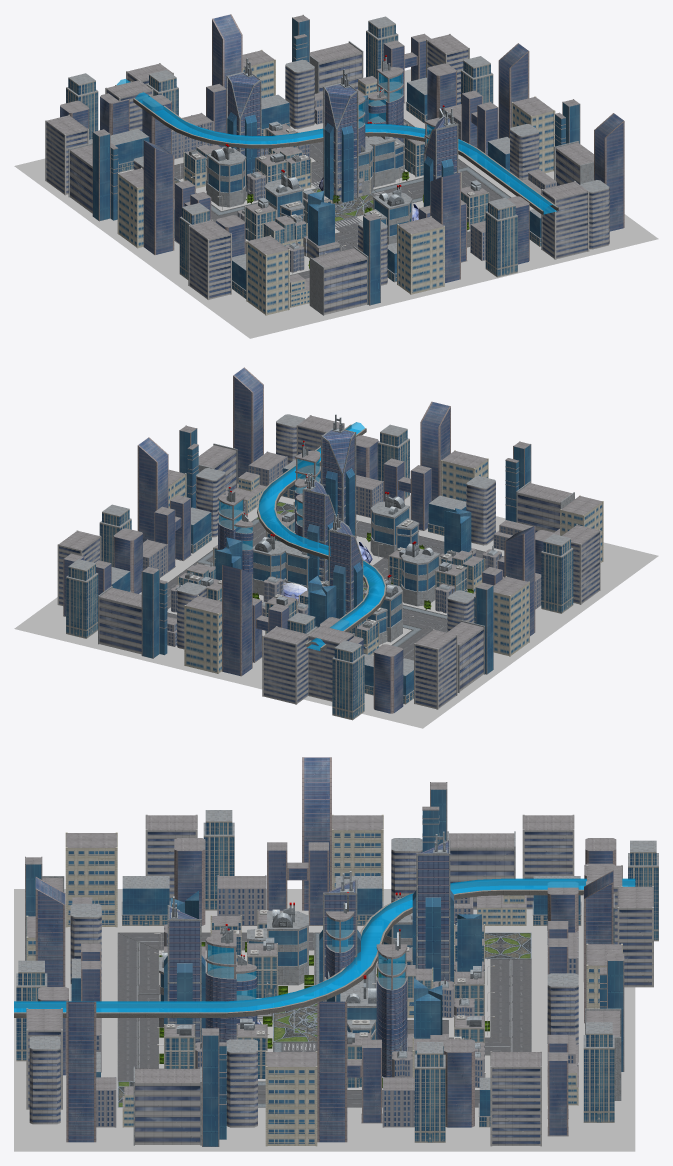
File: Map.fbx
The picture shows the model from 3 angles, top to bottom: view 1: azimuth 30°, elevation 25°; view 2: azimuth 150°, elevation 25°; view 3: azimuth 270°, elevation 25°; orthographic projection. The views are drawn at different scales.
Visible parts, largest first — view 1: Map; view 2: Map; view 3: Map.
Part boxes in pixels (<box>): Map: <box>14,14,658,338</box>; Map: <box>14,367,658,728</box>; Map: <box>14,757,658,1151</box>.
Bounding box in the file's own units: 120 × 34.6 × 125.
